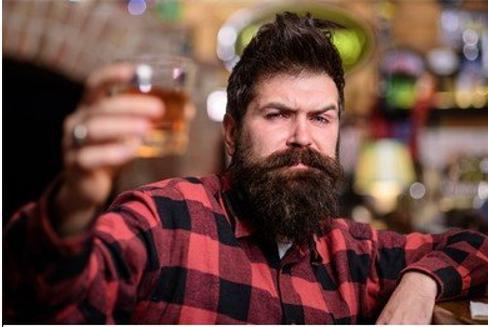Drunk: (245, 77, 341, 189)
